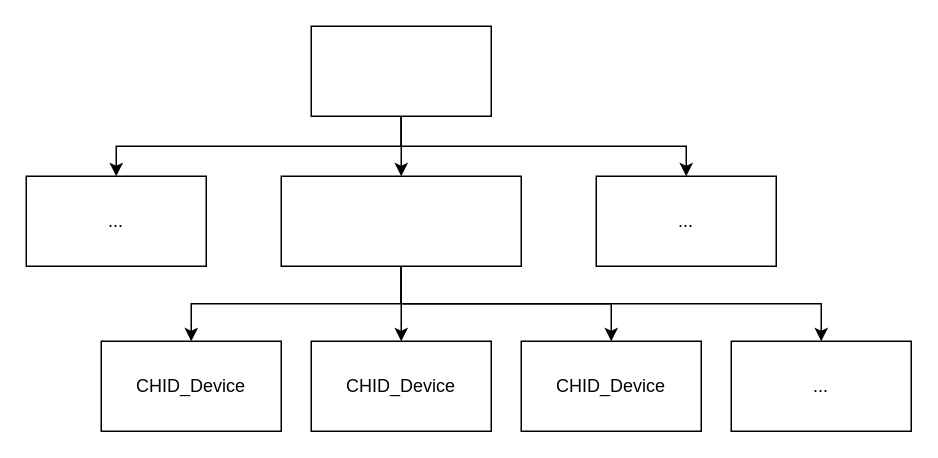
The diagram is 938 pixels wide and 458 high, and some of its shapes have lost their labels. Each missing label, with the centre of its shape:
Application: point (400, 70)
CHID_DeviceManager: point (400, 220)
